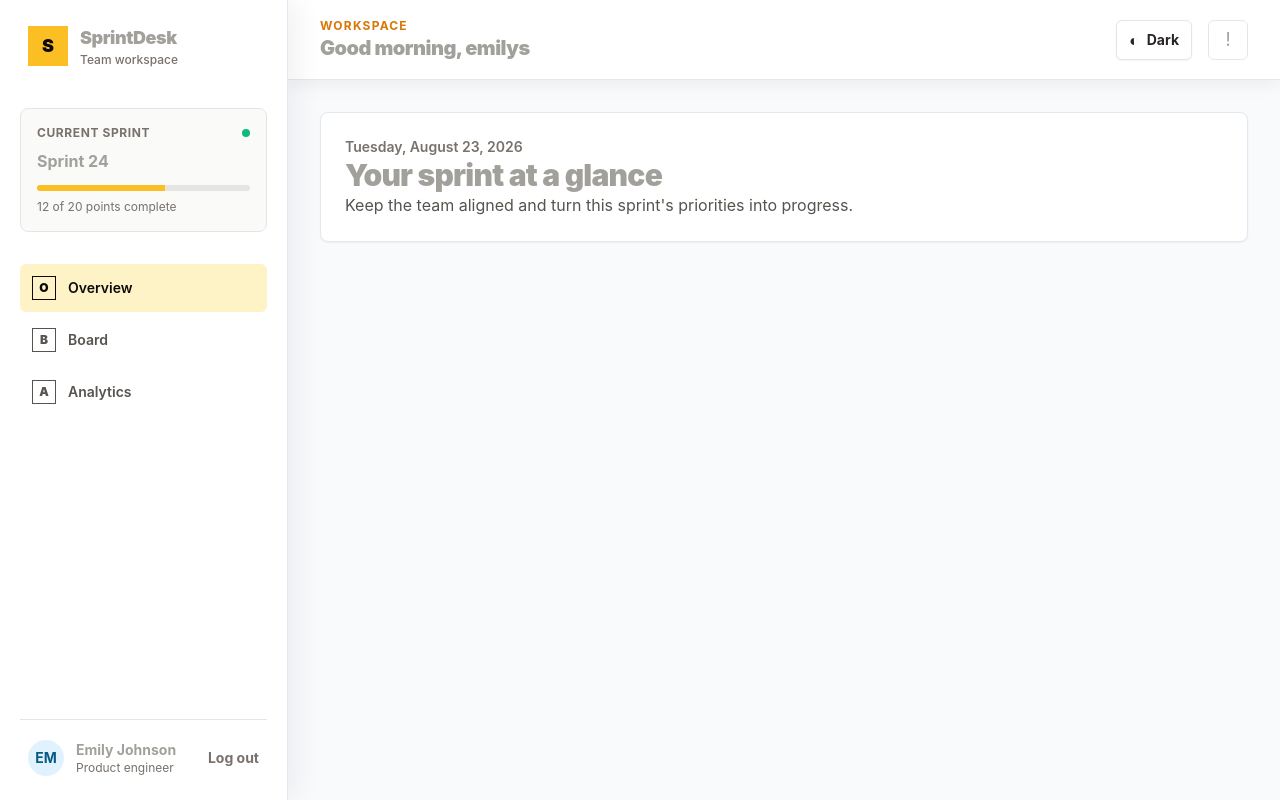
Test: App authentication › logs out and returns to login
Check: the heading "Your sprint at a glance" is shown, box x1=345 y1=157 x2=662 y2=193
Click the button "Log out" at (233,758), box x1=208 y1=748 x2=259 y2=768
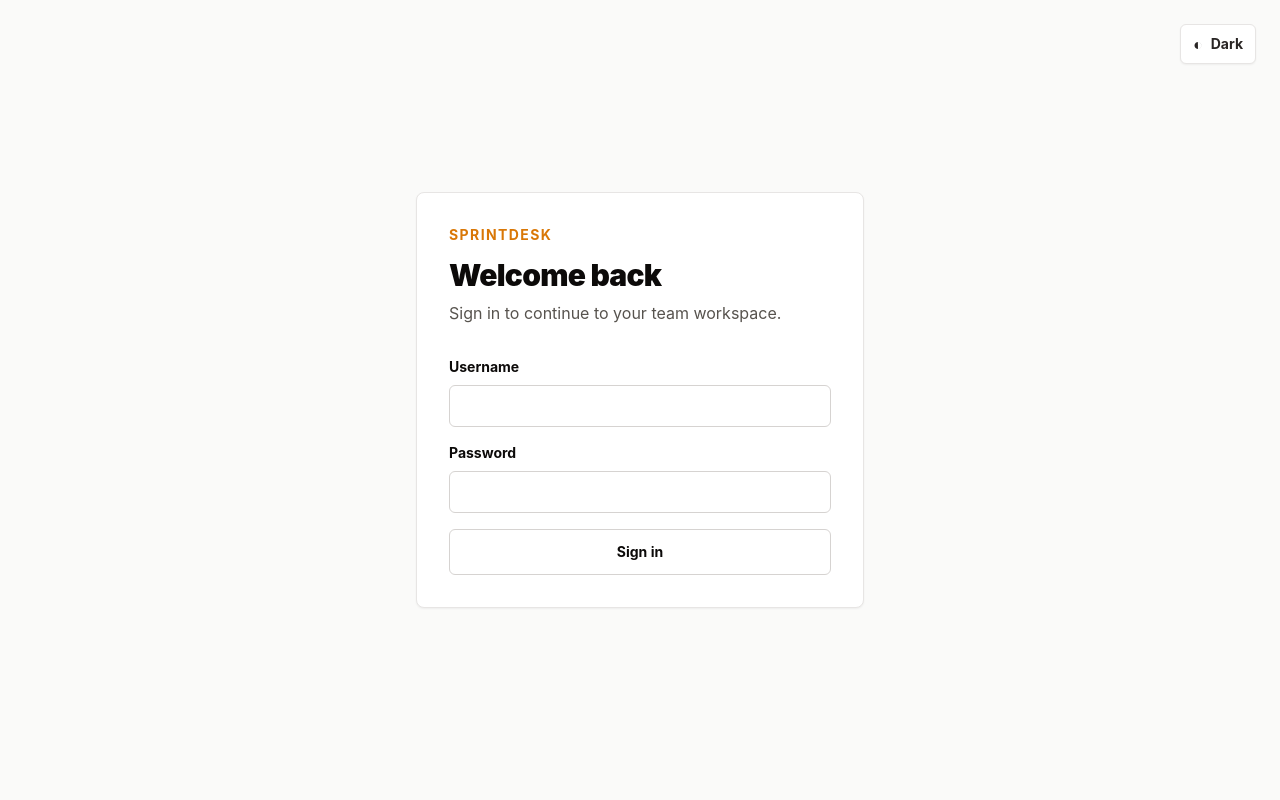
Check: the heading "Welcome back" is shown, box x1=449 y1=257 x2=661 y2=293
